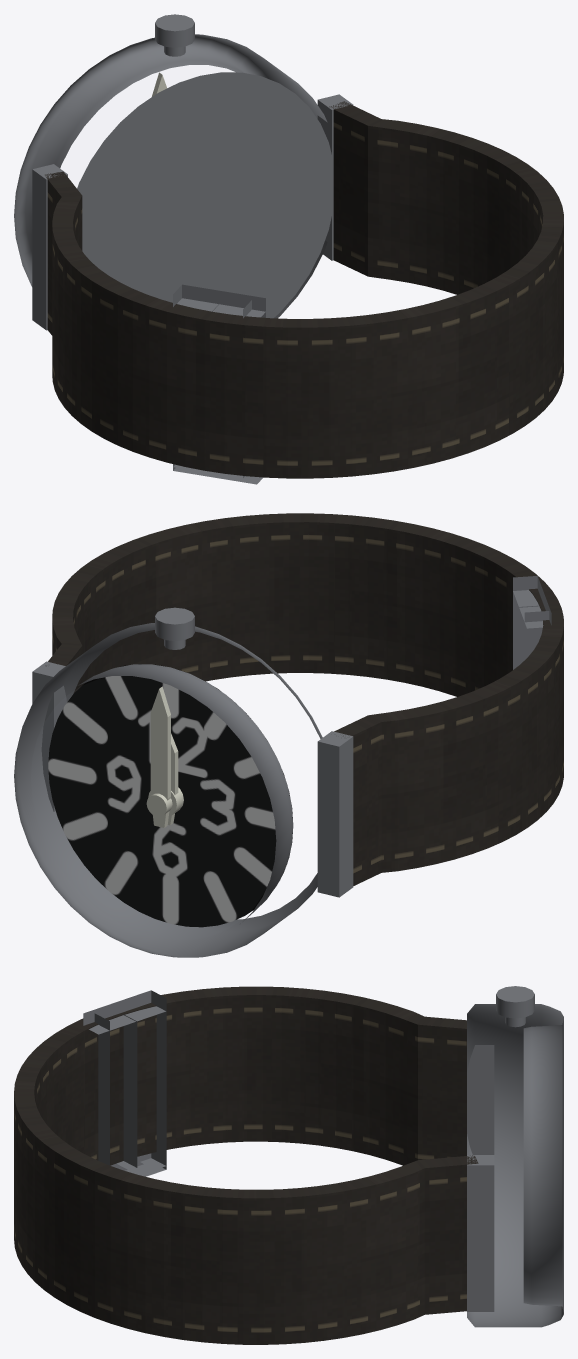
File: watch.glb
3 renders of one model, top to bottom at view 1: azimuth 30°, elevation 25°; view 2: azimuth 150°, elevation 25°; view 3: azimuth 270°, elevation 25°, orthographic. The views are drawn at different scales.
Visible parts, largest first — view 1: Strap, Case; view 2: Strap, Dial, Case, MinuteHand, HourHand; view 3: Strap, Case.
Boxes of the visible parts, x1=… form: Strap: x1=45, y1=101, x2=563, y2=484; Case: x1=14, y1=14, x2=353, y2=330; Strap: x1=45, y1=513, x2=563, y2=885; Dial: x1=48, y1=664, x2=293, y2=927; Case: x1=14, y1=607, x2=353, y2=957; MinuteHand: x1=146, y1=686, x2=172, y2=827; HourHand: x1=148, y1=733, x2=183, y2=825; Strap: x1=14, y1=986, x2=478, y2=1344; Case: x1=467, y1=986, x2=563, y2=1327.
Size of the model in its own units: 0.062 by 0.0434 by 0.068.
Materials: 5 (2 with a texture image).
